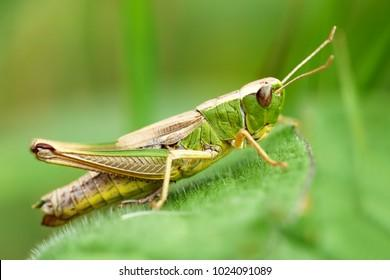Insects: (24, 23, 344, 230)
